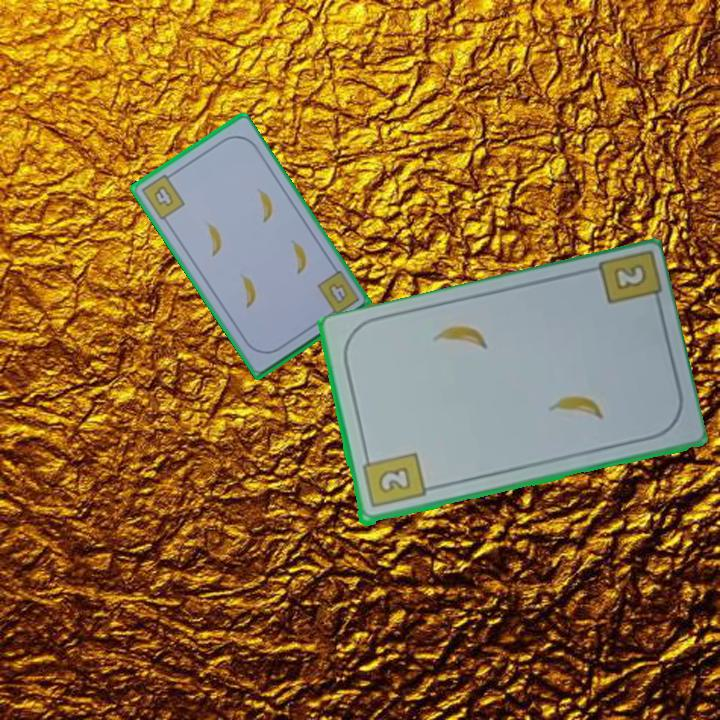2b: (358, 449, 428, 511), (609, 260, 650, 294)
4b: (138, 168, 188, 223), (313, 267, 362, 321)
